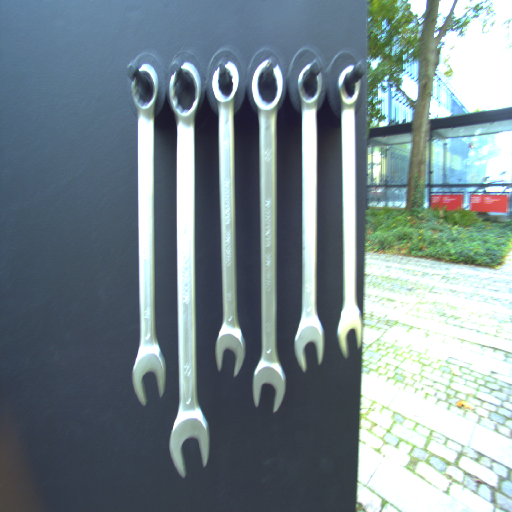bottom: (169, 414, 212, 477), (130, 344, 169, 406), (292, 316, 326, 375), (251, 360, 286, 413), (212, 324, 246, 378), (335, 304, 366, 357)
top: (168, 64, 202, 124), (250, 58, 284, 115), (129, 62, 161, 114), (335, 61, 364, 109), (296, 59, 322, 109), (211, 60, 240, 104)
